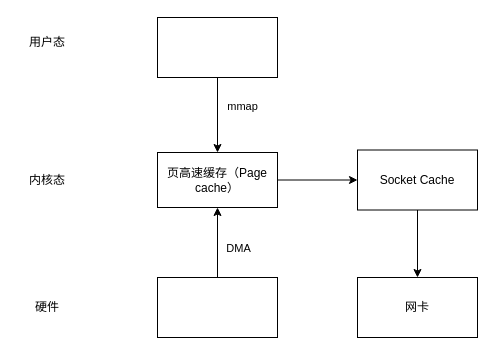
Image size: 495x355. Some labels were removed from this diagram. Here are the shapes that lost their labels. From the top down, the centre of each, then its label:
point (217, 47): 应用的缓存空间
point (217, 307): 磁盘空间
